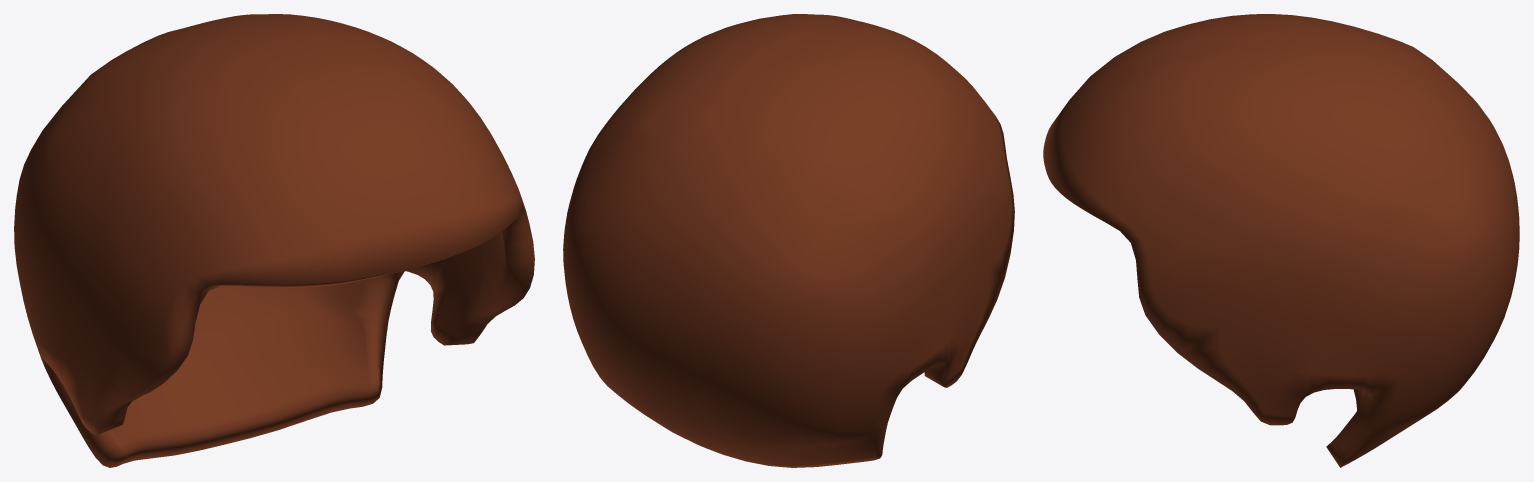
Rendered from hair-10-f08be77b.glb.
3 views of the same model, side by side, from view 1: azimuth 30°, elevation 25°; view 2: azimuth 150°, elevation 25°; view 3: azimuth 270°, elevation 25° (orthographic). The views are drawn at different scales.
Parts seen in each view (by area): view 1: hair_10.001; view 2: hair_10.001; view 3: hair_10.001.
Part boxes in pixels (bbox=[...]): hair_10.001: bbox=[14, 14, 534, 467]; hair_10.001: bbox=[563, 14, 1014, 467]; hair_10.001: bbox=[1043, 14, 1519, 467].
Bounding box in the file's own units: 1.53 × 1.58 × 1.75.
